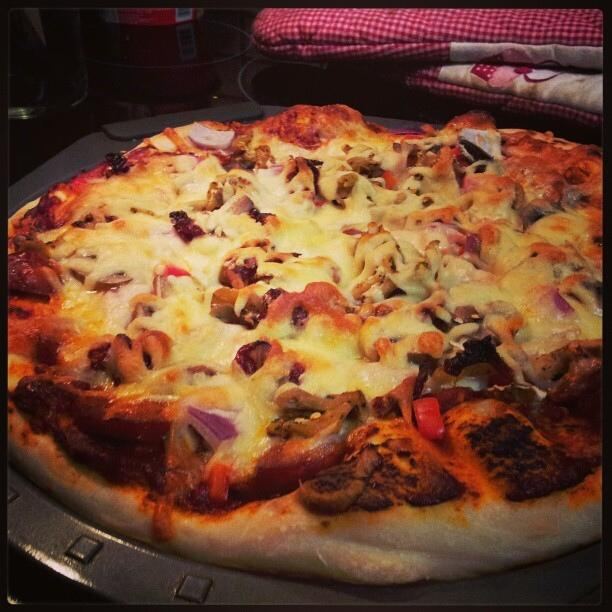bell pepper: (412, 398, 446, 438), (206, 462, 230, 507), (379, 168, 398, 191), (448, 232, 466, 256), (163, 264, 191, 278), (70, 177, 90, 194), (403, 134, 423, 140), (451, 148, 460, 157)
mushroom: (295, 444, 385, 517), (266, 387, 370, 441), (443, 334, 517, 383), (103, 330, 174, 370), (521, 344, 585, 388), (370, 376, 418, 424), (464, 173, 524, 210), (112, 333, 148, 382), (211, 286, 252, 328), (281, 157, 320, 199), (69, 268, 132, 292), (518, 199, 562, 233), (330, 173, 358, 211), (347, 156, 386, 178), (481, 300, 517, 322), (264, 246, 302, 264), (205, 180, 224, 213), (380, 276, 407, 299), (230, 130, 253, 155)
onion: (188, 406, 238, 453), (188, 122, 236, 150), (235, 340, 271, 376), (226, 195, 254, 215), (552, 291, 574, 314), (342, 228, 370, 236), (270, 164, 286, 177), (466, 236, 476, 254), (408, 172, 414, 176)
